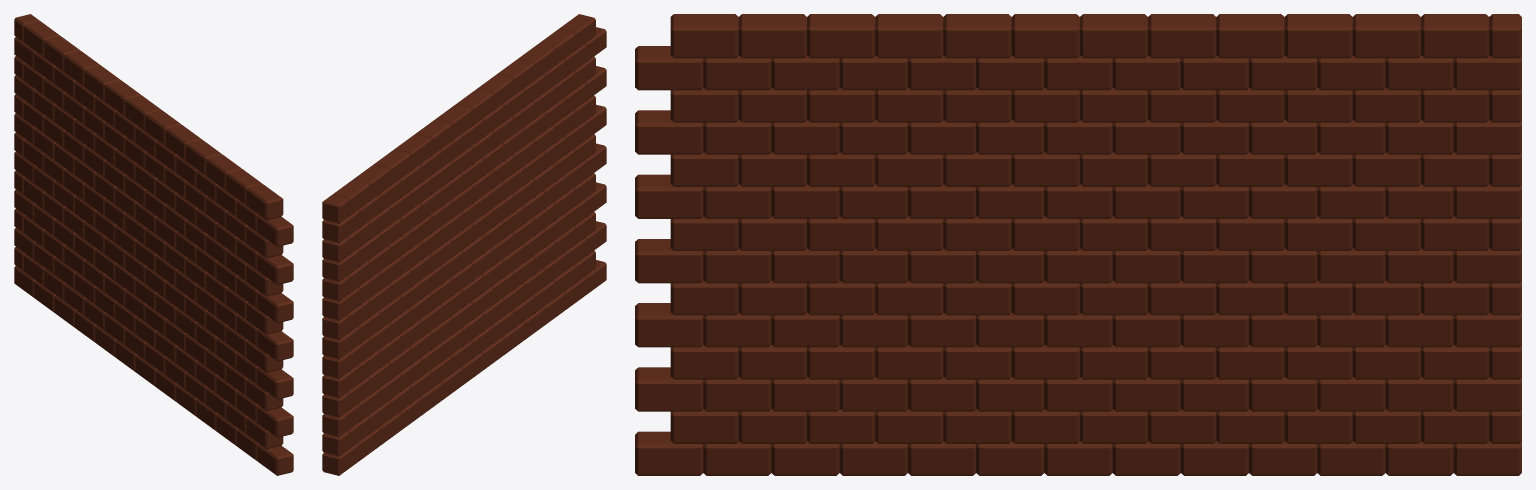
Rendered from BrickWallEnd.glb.
3 views of the same model, side by side, from view 1: azimuth 30°, elevation 25°; view 2: azimuth 150°, elevation 25°; view 3: azimuth 270°, elevation 25° (orthographic). The views are drawn at different scales.
Visible parts, largest first — view 1: Cube; view 2: Cube; view 3: Cube.
Boxes of the visible parts, x1=… form: Cube: x1=14, y1=14, x2=293, y2=475; Cube: x1=322, y1=14, x2=606, y2=475; Cube: x1=635, y1=14, x2=1521, y2=475.
Size of the model in its own units: 0.3218 by 4.5 by 8.05.
